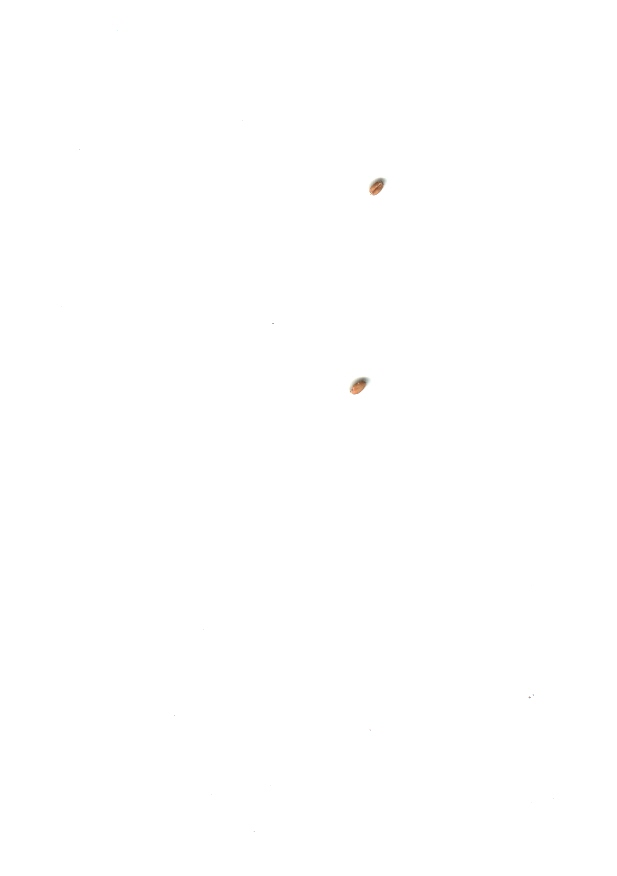grains: (344, 371, 376, 401), (366, 173, 388, 202)
